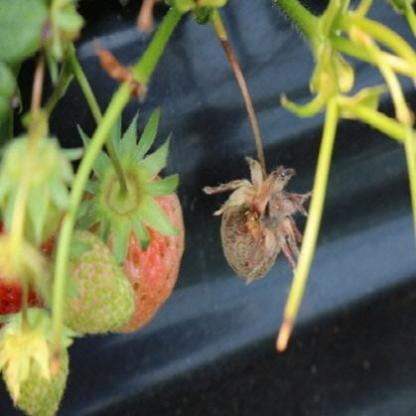Strawberry_Gray_Mold: (201, 155, 315, 284)
